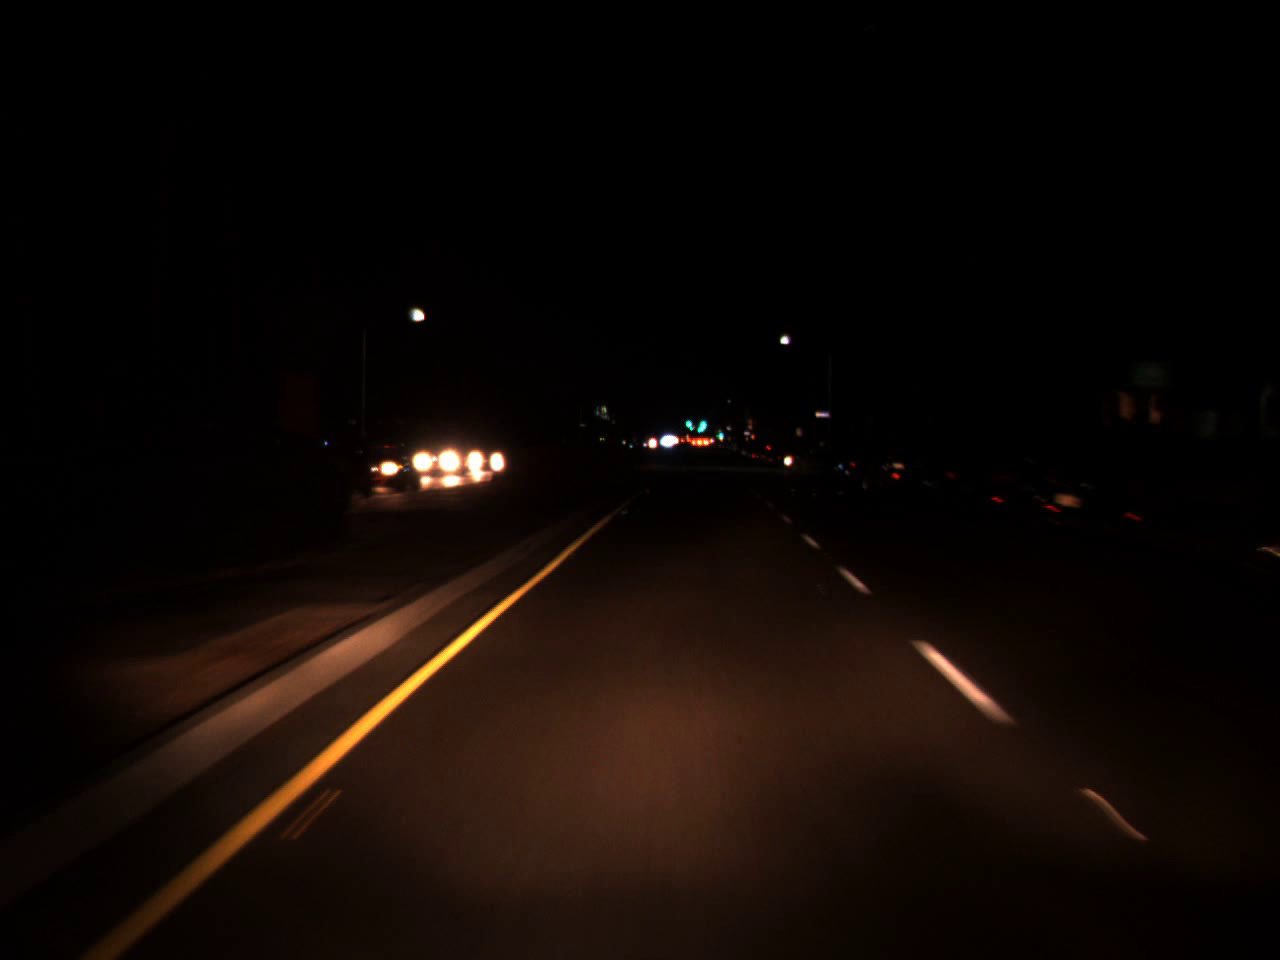go: (712, 421, 726, 442), (684, 409, 694, 433), (697, 411, 707, 432)
